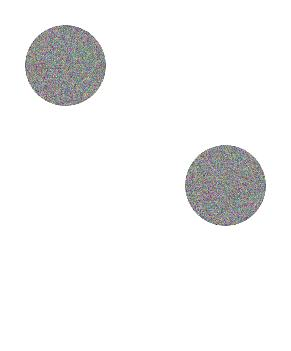E: (19, 18, 273, 330)
